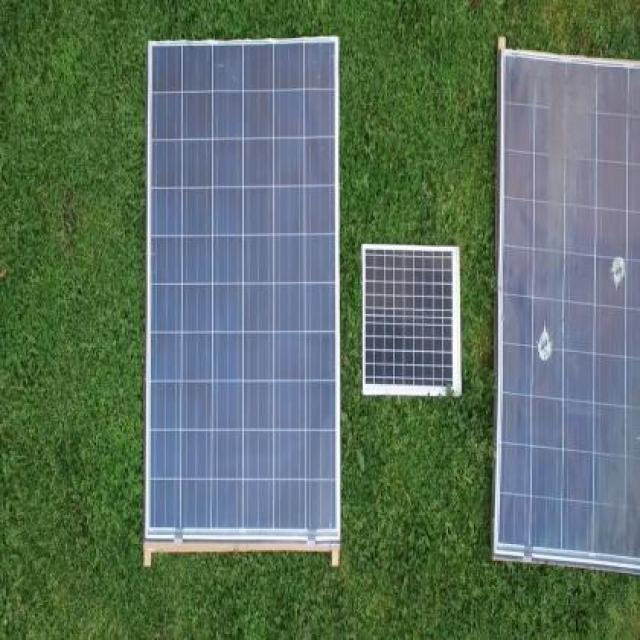soiled: (498, 47, 638, 564)
